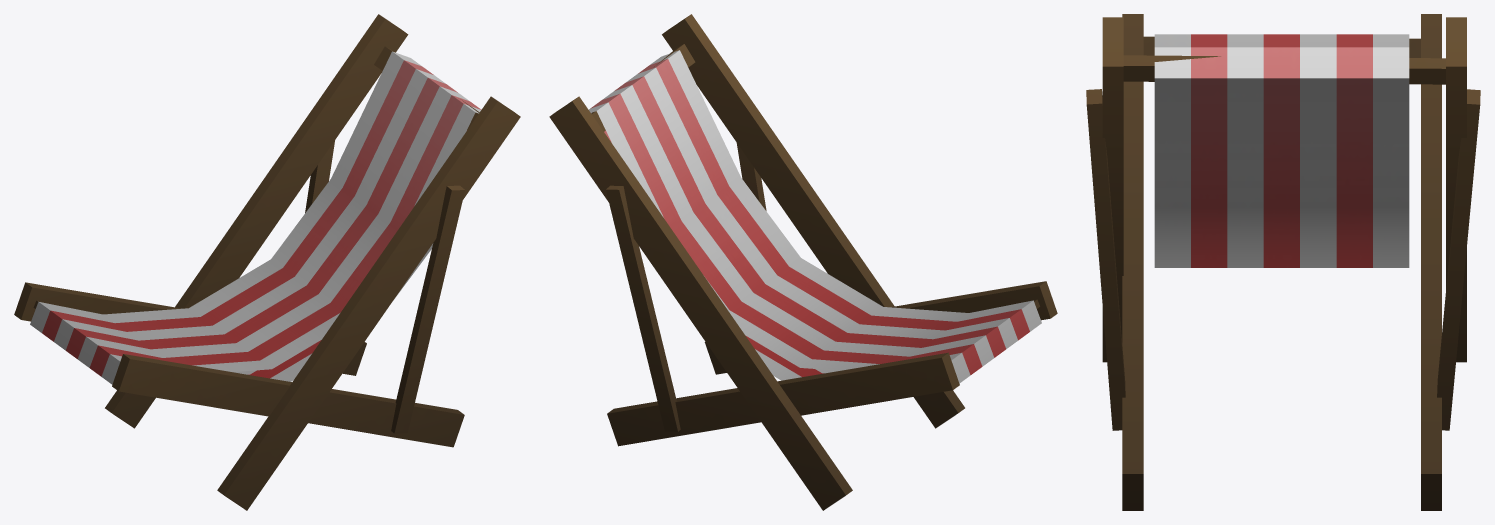
File: sdraio.fbx
The picture shows the model from 3 angles, left to right: view 1: azimuth 30°, elevation 25°; view 2: azimuth 150°, elevation 25°; view 3: azimuth 270°, elevation 25°; orthographic projection. The views are drawn at different scales.
Visible parts, largest first — view 1: sdraio; view 2: sdraio; view 3: sdraio.
Boxes of the visible parts, x1,y1,x2,y2 form: sdraio: [14, 14, 520, 510]; sdraio: [549, 14, 1057, 510]; sdraio: [1086, 14, 1480, 510].
Bounding box in the file's own units: 185 × 156 × 105.
